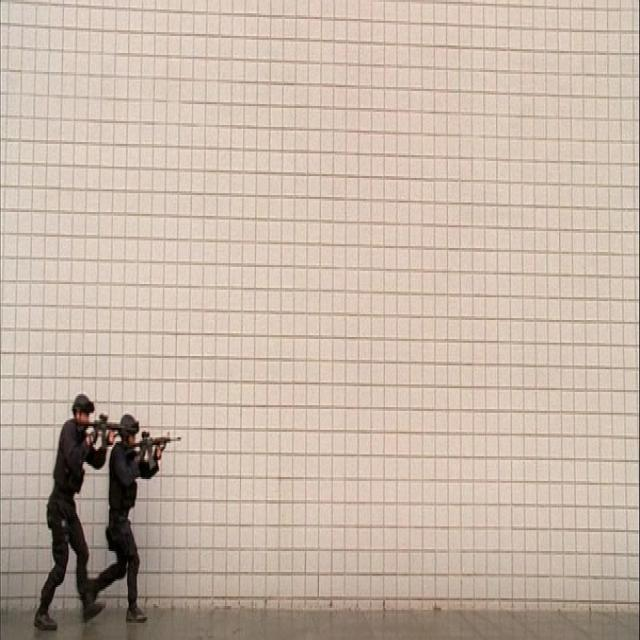rifle: (128, 426, 187, 476), (79, 413, 140, 446)
